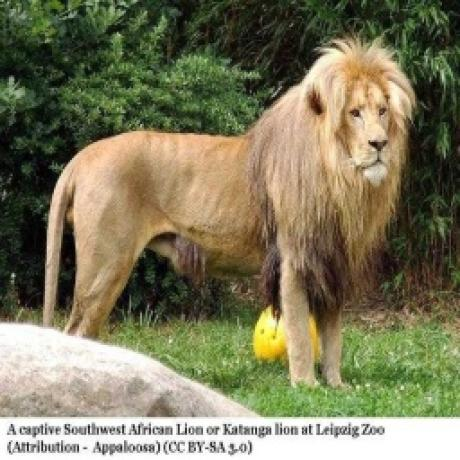Lion: (42, 37, 413, 392)
